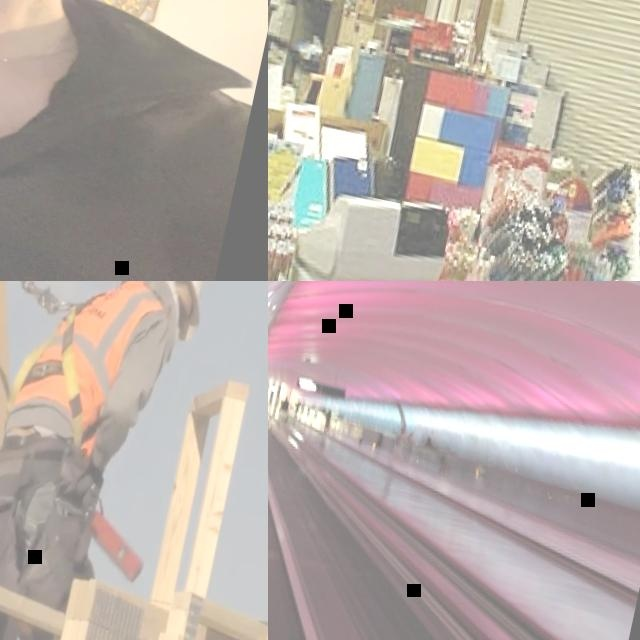Hardhat: (126, 281, 218, 343)
NO-Safety Vest: (0, 0, 254, 281)
Person: (0, 281, 218, 640), (0, 0, 268, 281)
Safety Vest: (6, 281, 170, 460)
